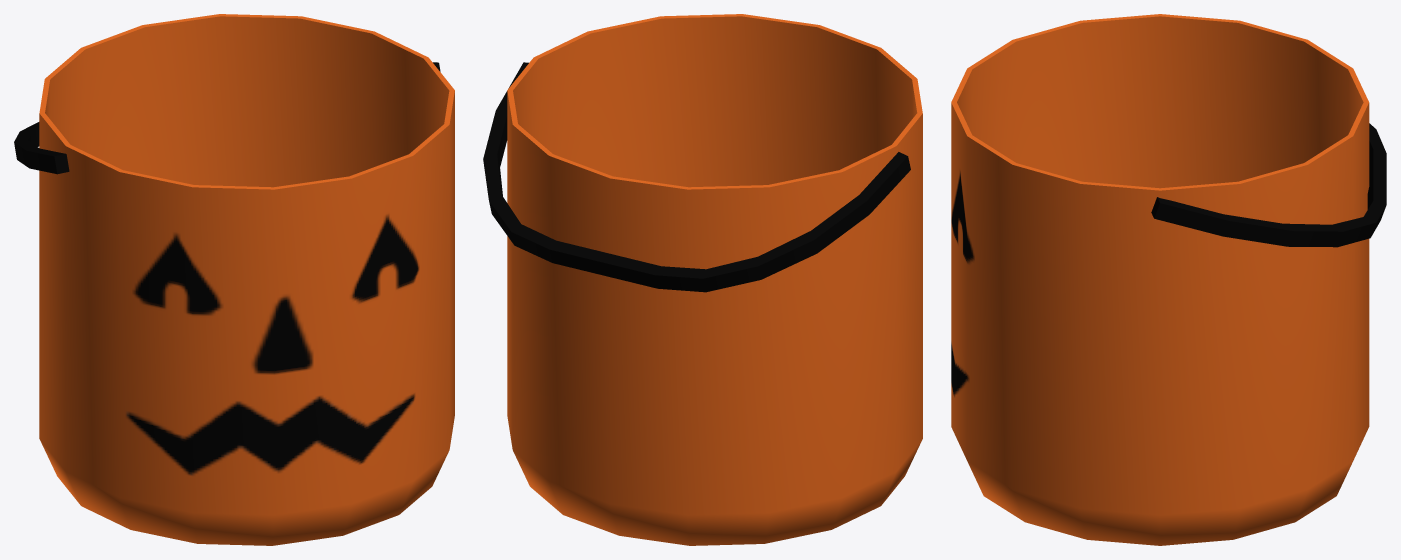
File: HW_pumpkinBucket.fbx
The picture shows the model from 3 angles, left to right: view 1: azimuth 30°, elevation 25°; view 2: azimuth 150°, elevation 25°; view 3: azimuth 270°, elevation 25°; orthographic projection.
Parts seen in each view (by area): view 1: HW_pumpkinBucket; view 2: HW_pumpkinBucket; view 3: HW_pumpkinBucket.
Part boxes in pixels (left/top/right/bottom): HW_pumpkinBucket: left=14, top=14, right=454, bottom=545; HW_pumpkinBucket: left=483, top=14, right=922, bottom=545; HW_pumpkinBucket: left=951, top=14, right=1386, bottom=545.
Size of the model in its own units: 0.2331 by 0.22 by 0.2292.
1 material, 1 textured.
